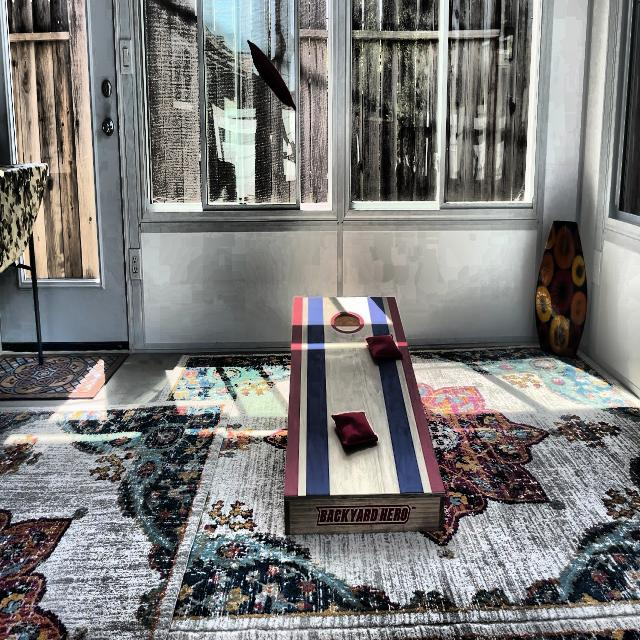board: (290, 297, 410, 493)
hole: (330, 310, 364, 333)
red-bean-bag: (247, 40, 297, 109), (333, 411, 378, 447), (366, 334, 403, 361)
